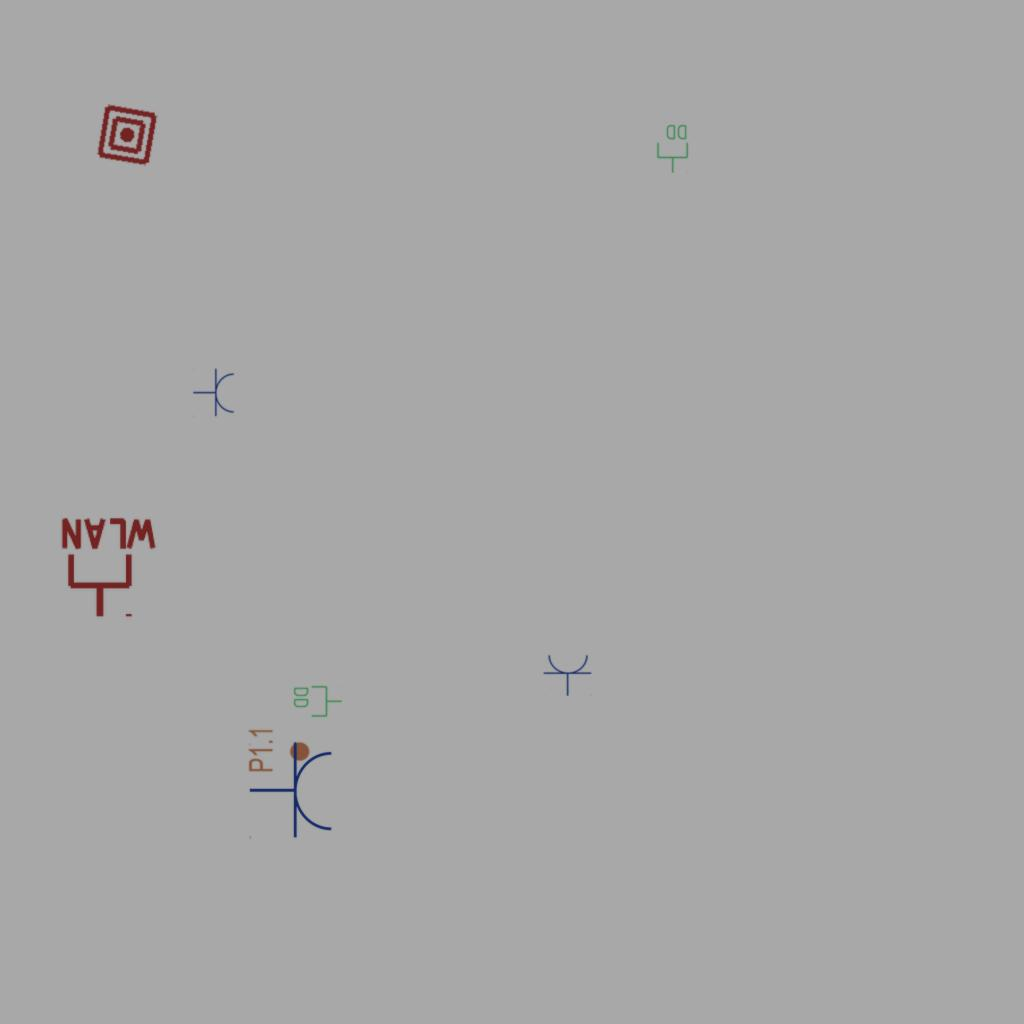Datenanschluss_zweifach: (656, 123, 690, 174), (292, 684, 343, 718)
Downlight_LED_Einbauleuchten_Flur: (247, 727, 311, 773)
NAM-Nichtautomatischer_Melder: (94, 102, 160, 168)
Schukosteckdose_einfach: (249, 741, 336, 841), (193, 368, 236, 418), (543, 653, 593, 696)
WLAN: (57, 516, 161, 621)
